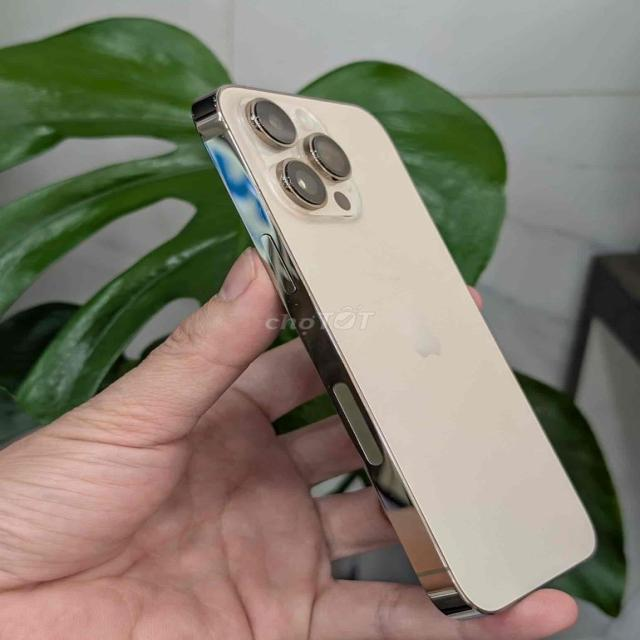scratch: (305, 146, 324, 164), (280, 176, 296, 192), (253, 112, 265, 129)
